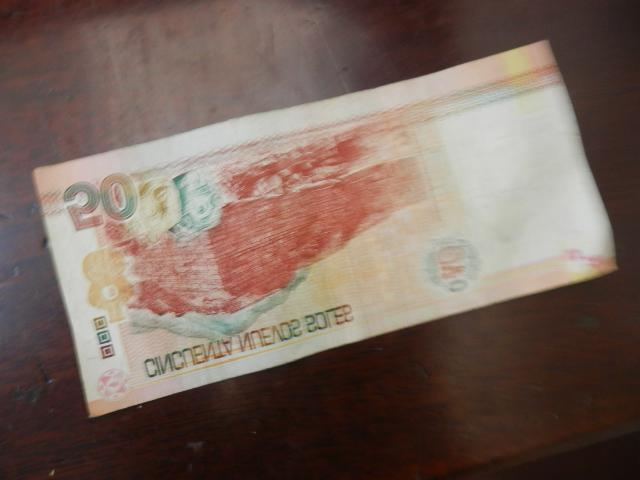B50: (34, 43, 617, 417)
